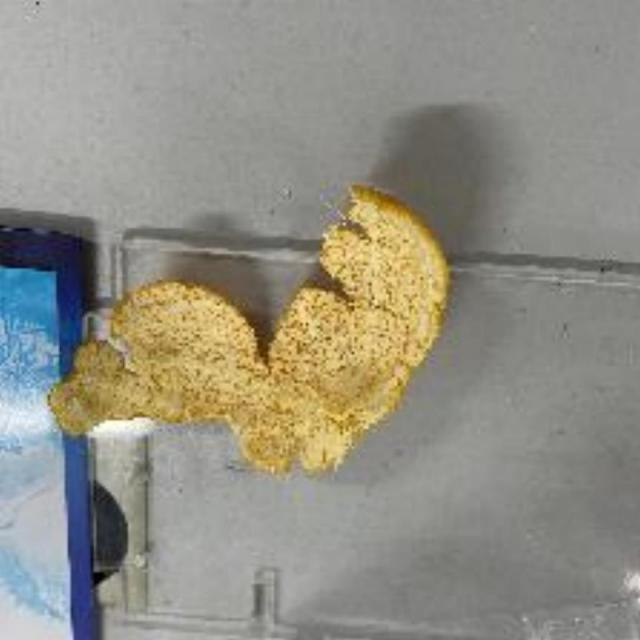orange peel: (51, 188, 452, 479)
